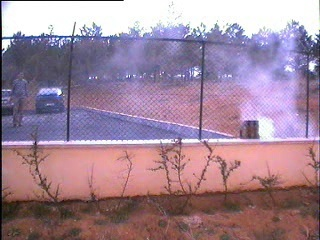smoke: (214, 18, 320, 139)
